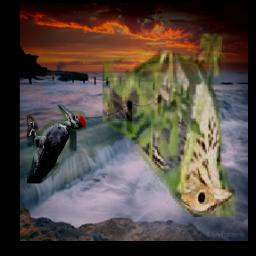Sparrow: (103, 34, 236, 218)
Woodpecker: (27, 105, 86, 184)
